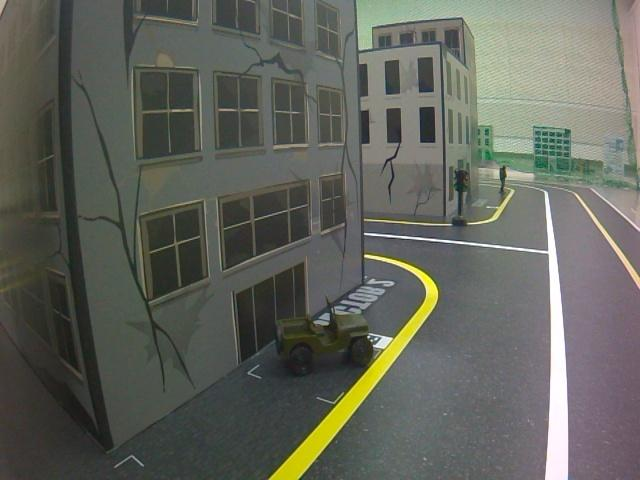Car: (271, 291, 380, 373)
Enemy: (498, 165, 509, 196)
